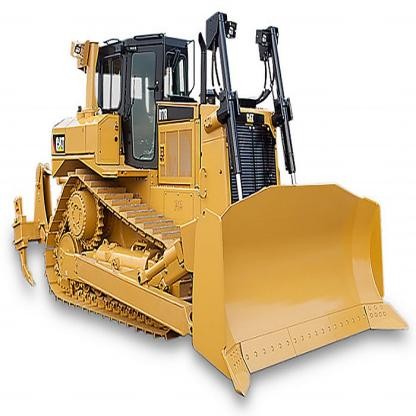bull_dozer/loader/grader: (14, 8, 412, 400)
